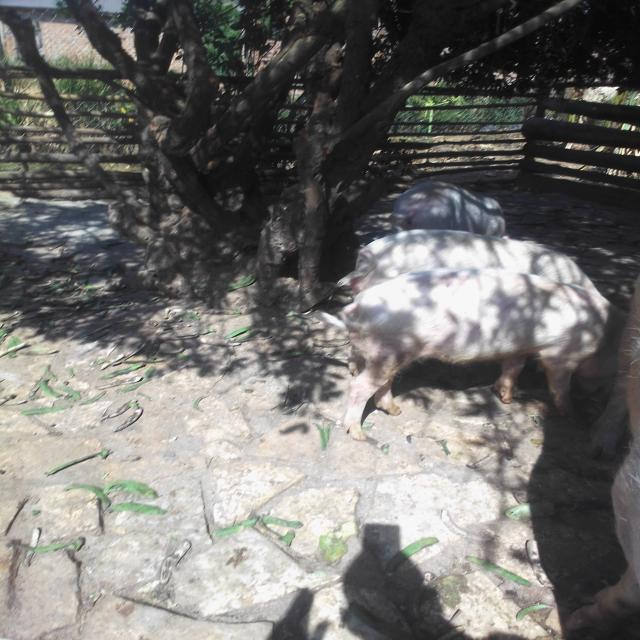pig: (242, 255, 640, 467)
